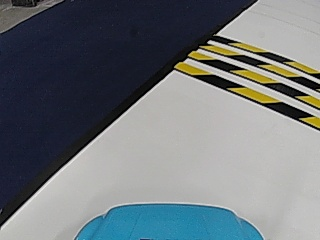bump: (200, 37, 313, 121)
